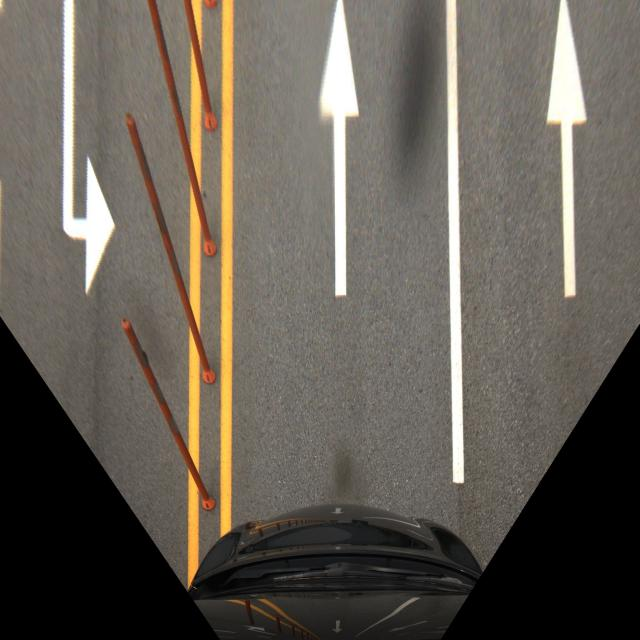left: (446, 310, 640, 640)
